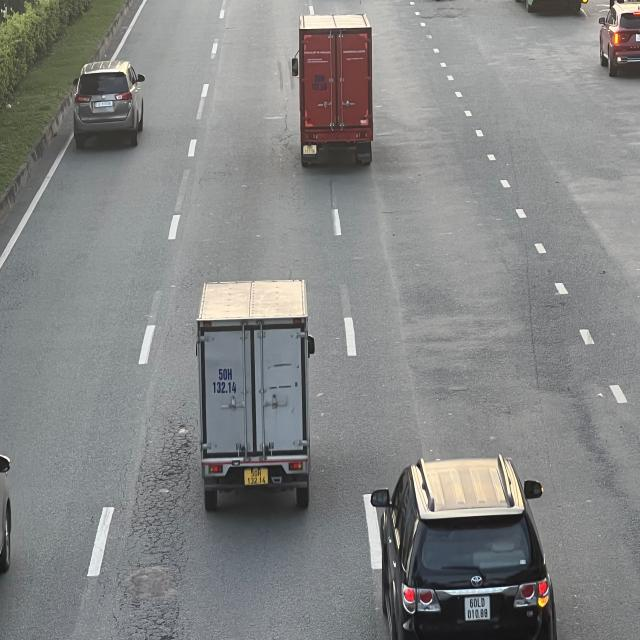car: (370, 457, 554, 640), (73, 59, 148, 146), (600, 2, 640, 76)
truck: (200, 282, 319, 517), (293, 14, 377, 169)
